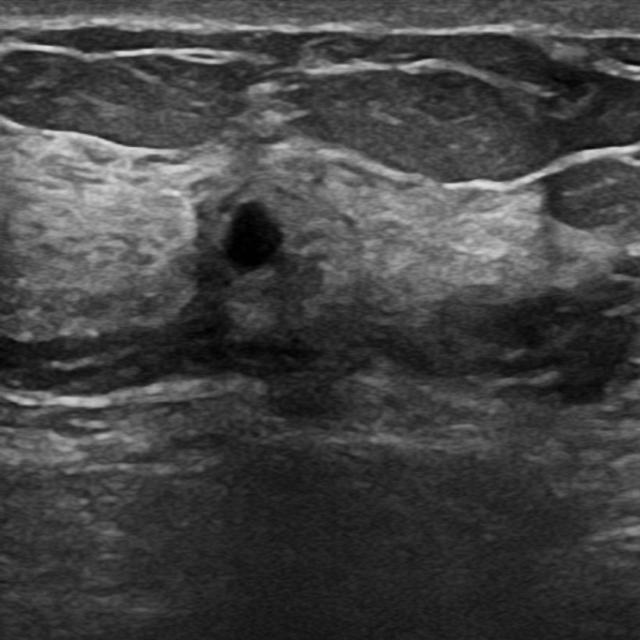Benign: (217, 185, 280, 268)
